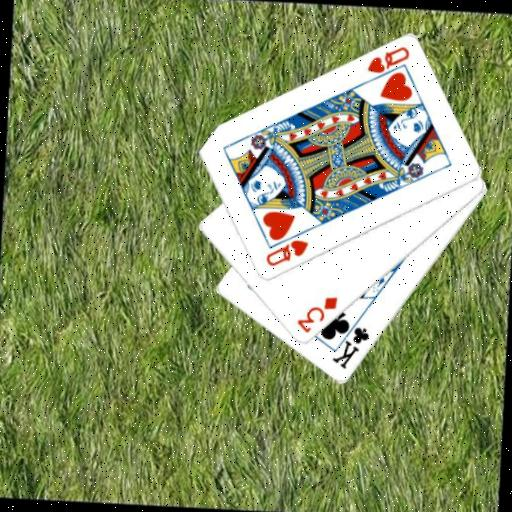3D: (293, 292, 340, 337)
KC: (329, 314, 372, 373)
QH: (363, 42, 412, 88), (262, 235, 311, 270)
